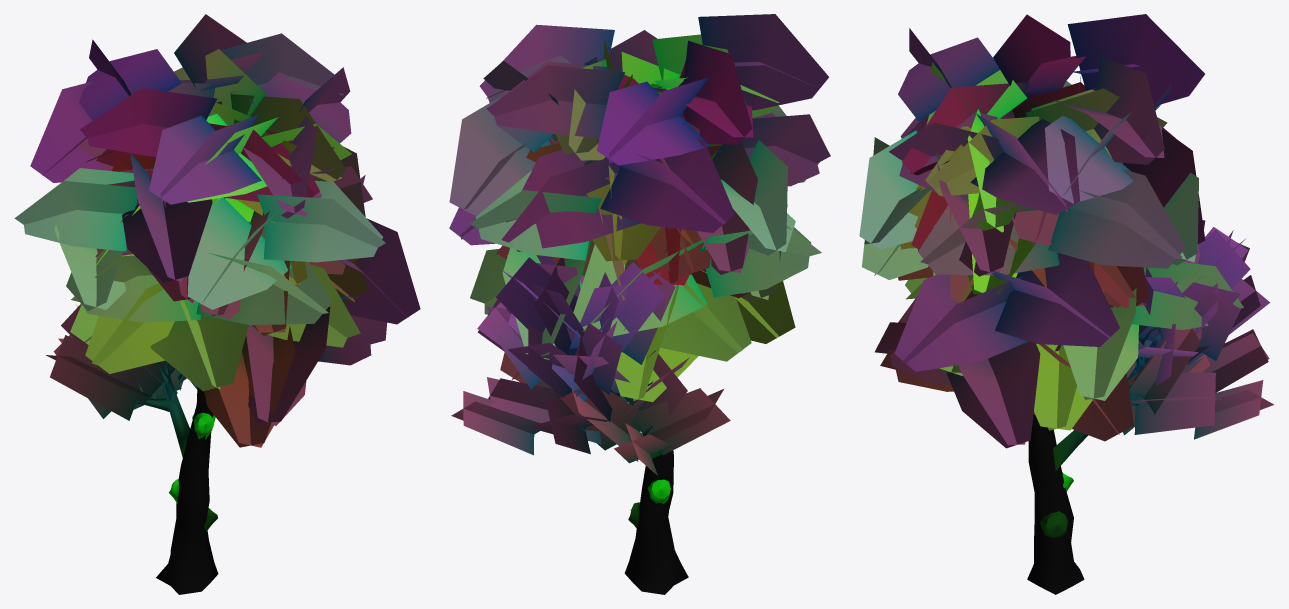
The model's file is M_Realistic7_3.fbx.
3 renders of one model, left to right at view 1: azimuth 30°, elevation 25°; view 2: azimuth 150°, elevation 25°; view 3: azimuth 270°, elevation 25°, orthographic. The views are drawn at different scales.
Visible parts, largest first — view 1: Tree_3; view 2: Tree_3; view 3: Tree_3.
Boxes of the visible parts, x1,y1,x2,y2 form: Tree_3: (14, 14, 420, 594); Tree_3: (449, 14, 830, 594); Tree_3: (859, 14, 1273, 594).
Bounding box in the file's own units: 725 × 1111 × 775.
